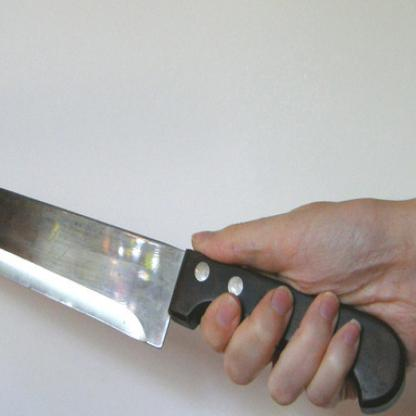knife: (0, 140, 270, 353)
